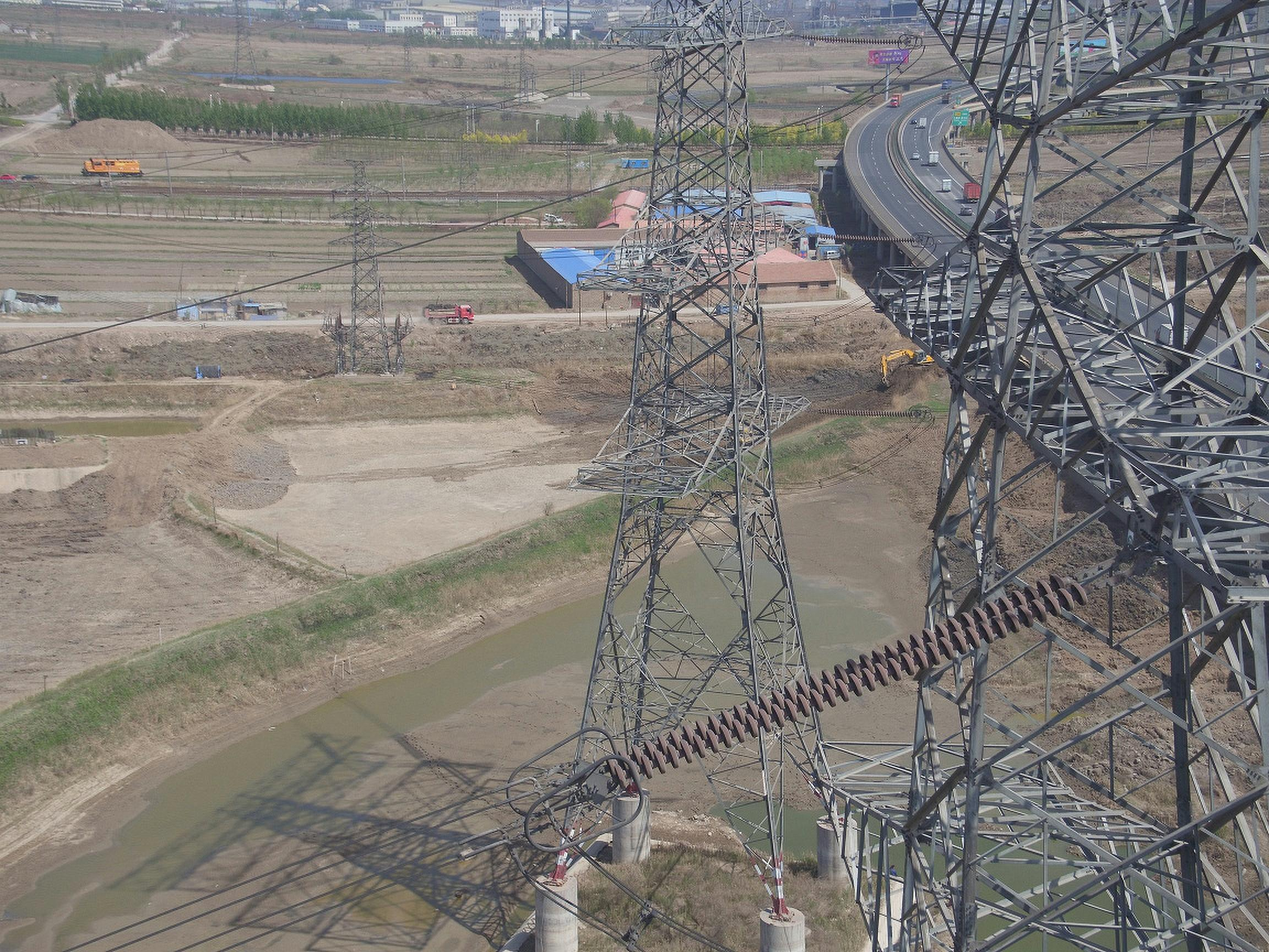insulator: (603, 571, 1091, 793), (818, 405, 915, 419), (818, 231, 915, 244)
